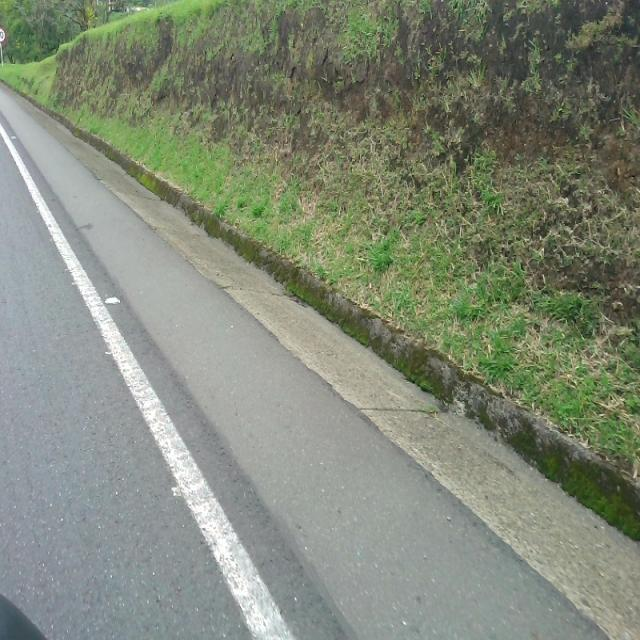DITCH: (1, 79, 638, 638), (1, 97, 638, 638)
